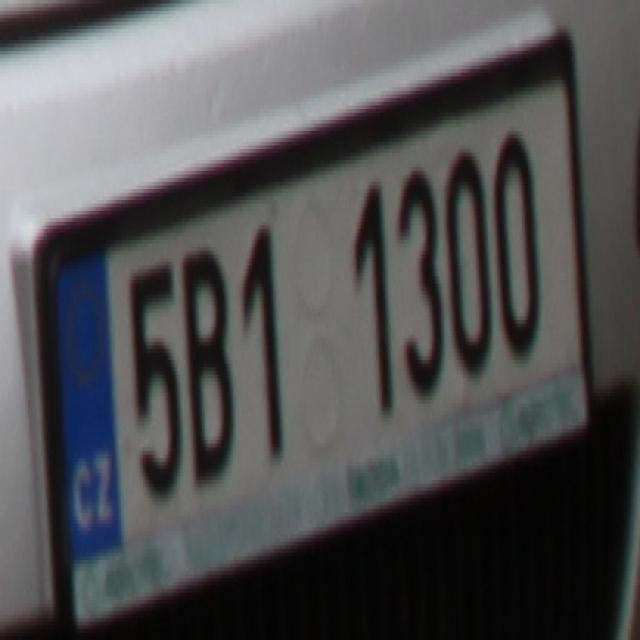0: (494, 127, 546, 360), (442, 146, 492, 374)
1: (240, 222, 290, 469), (354, 189, 397, 422)
3: (397, 167, 444, 411)
5: (126, 254, 182, 491)
B: (180, 240, 236, 487)
